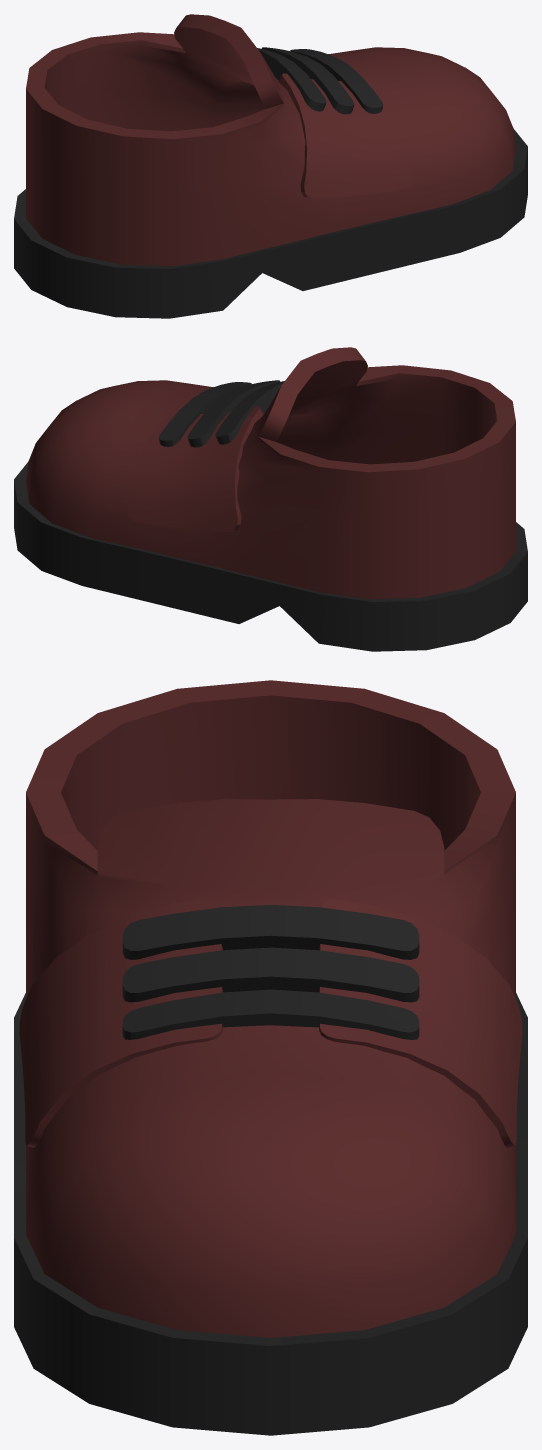
The model's file is mans_shoe.fbx.
3 renders of one model, top to bottom at view 1: azimuth 30°, elevation 25°; view 2: azimuth 150°, elevation 25°; view 3: azimuth 270°, elevation 25°, orthographic. The views are drawn at different scales.
Visible parts, largest first — view 1: Sphere.362; view 2: Sphere.362; view 3: Sphere.362.
Part boxes in pixels (<box>): Sphere.362: <box>14,14,527,318</box>; Sphere.362: <box>14,347,527,651</box>; Sphere.362: <box>14,680,527,1435</box>.
Size of the model in its own units: 219 by 92.96 by 110.
1 material, 1 textured.
